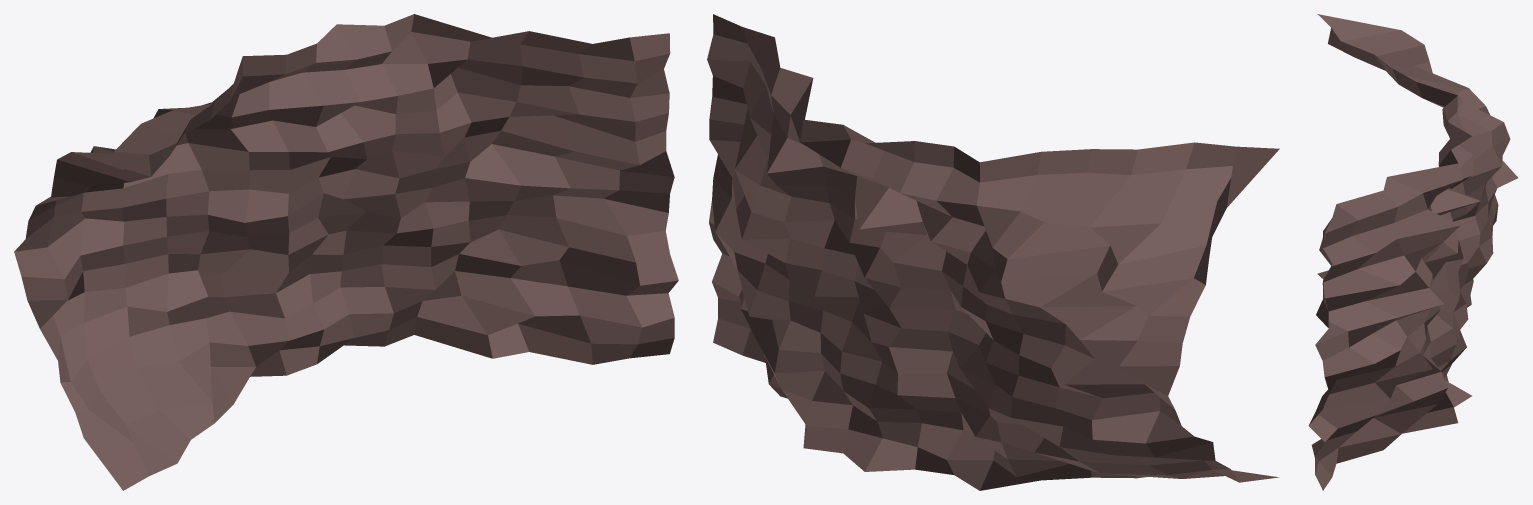
The model's file is Cave Wall - Left Open.fbx.
The picture shows the model from 3 angles, left to right: view 1: azimuth 30°, elevation 25°; view 2: azimuth 150°, elevation 25°; view 3: azimuth 270°, elevation 25°; orthographic projection. The views are drawn at different scales.
Parts seen in each view (by area): view 1: Cave Wall 2.005; view 2: Cave Wall 2.005; view 3: Cave Wall 2.005.
Boxes of the visible parts, bbox=[...] form: Cave Wall 2.005: bbox=[14, 14, 678, 490]; Cave Wall 2.005: bbox=[707, 14, 1279, 490]; Cave Wall 2.005: bbox=[1308, 14, 1517, 490].
Size of the model in its own units: 3318 by 1850 by 1357.
